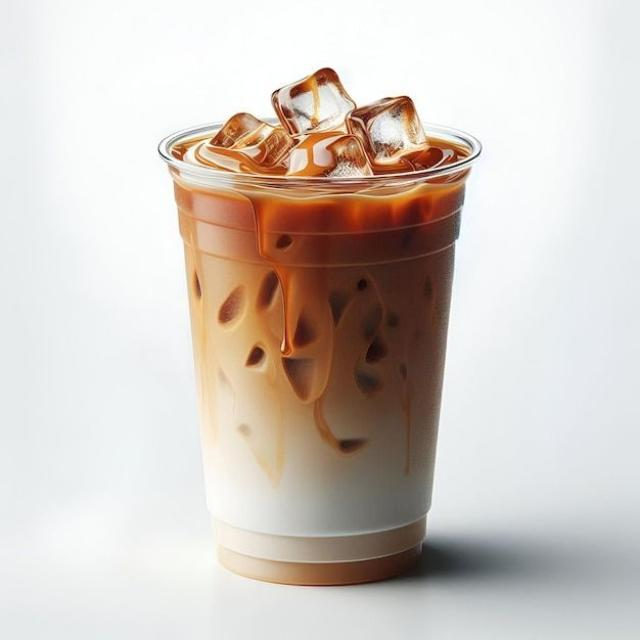plastic cup: (158, 66, 483, 586)
